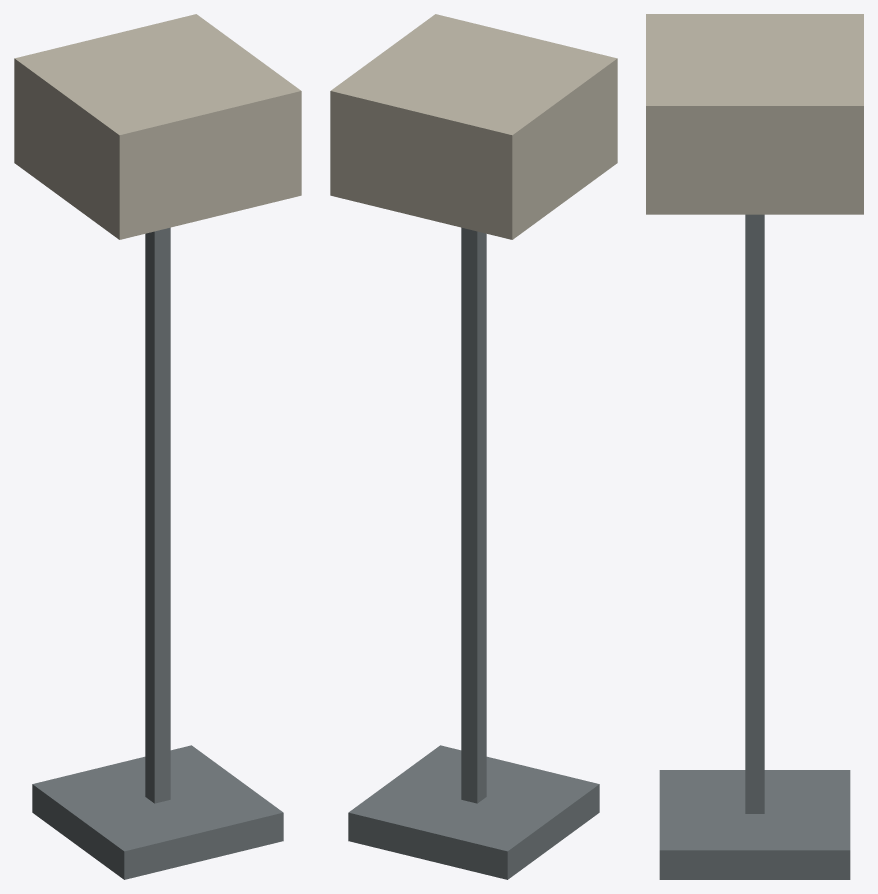
Rendered from floor_lamp.glb.
3 views of the same model, side by side, from view 1: azimuth 30°, elevation 25°; view 2: azimuth 150°, elevation 25°; view 3: azimuth 270°, elevation 25° (orthographic). The views are drawn at different scales.
Parts seen in each view (by area): view 1: body; view 2: body; view 3: body.
Boxes of the visible parts, x1,y1,x2,y2 form: body: (14, 14, 301, 879); body: (330, 14, 617, 879); body: (646, 14, 863, 879).
Bounding box in the file's own units: 0.4 × 1.58 × 0.4.
